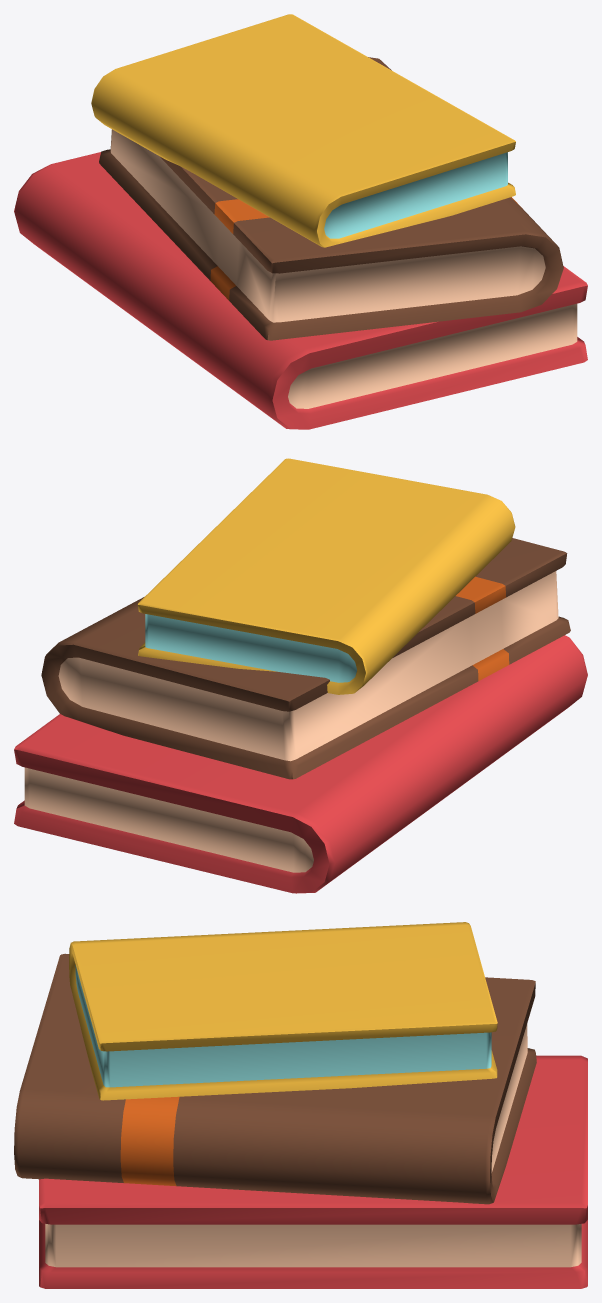
Rendered from livros_natal_pilha_pacote.glb.
3 views of the same model, one above another, from view 1: azimuth 30°, elevation 25°; view 2: azimuth 150°, elevation 25°; view 3: azimuth 270°, elevation 25° (orthographic). The views are drawn at different scales.
Visible parts, largest first — view 1: livros_natal_pilha_pacote; view 2: livros_natal_pilha_pacote; view 3: livros_natal_pilha_pacote.
Boxes of the visible parts, x1=… form: livros_natal_pilha_pacote: x1=14, y1=14, x2=587, y2=429; livros_natal_pilha_pacote: x1=14, y1=458, x2=587, y2=893; livros_natal_pilha_pacote: x1=14, y1=922, x2=587, y2=1288.
Size of the model in its own units: 0.2373 by 0.143 by 0.3291.
1 material, 1 textured.
